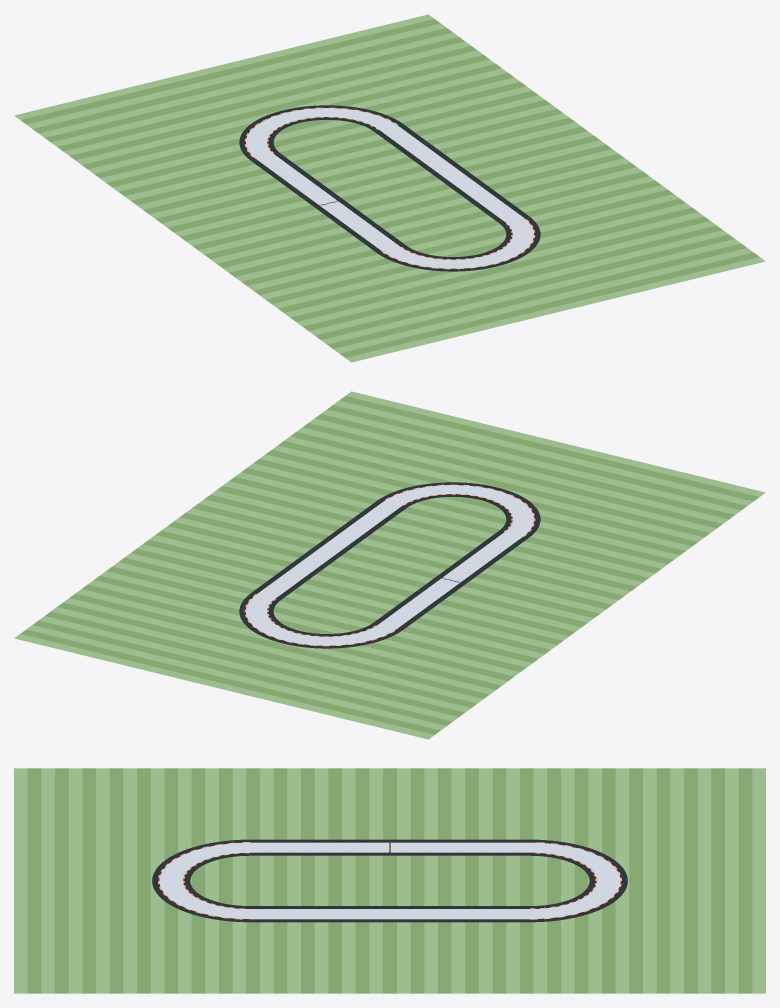
The model's file is Circuit.obj.
3 views of the same model, one above another, from view 1: azimuth 30°, elevation 25°; view 2: azimuth 150°, elevation 25°; view 3: azimuth 270°, elevation 25° (orthographic). The views are drawn at different scales.
Bounding box in the file's own units: 312 × 0.072 × 440.
